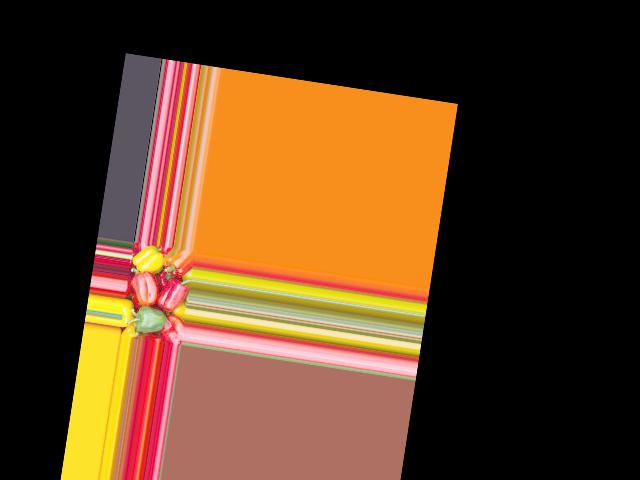bell_pepper: (129, 242, 167, 277)
